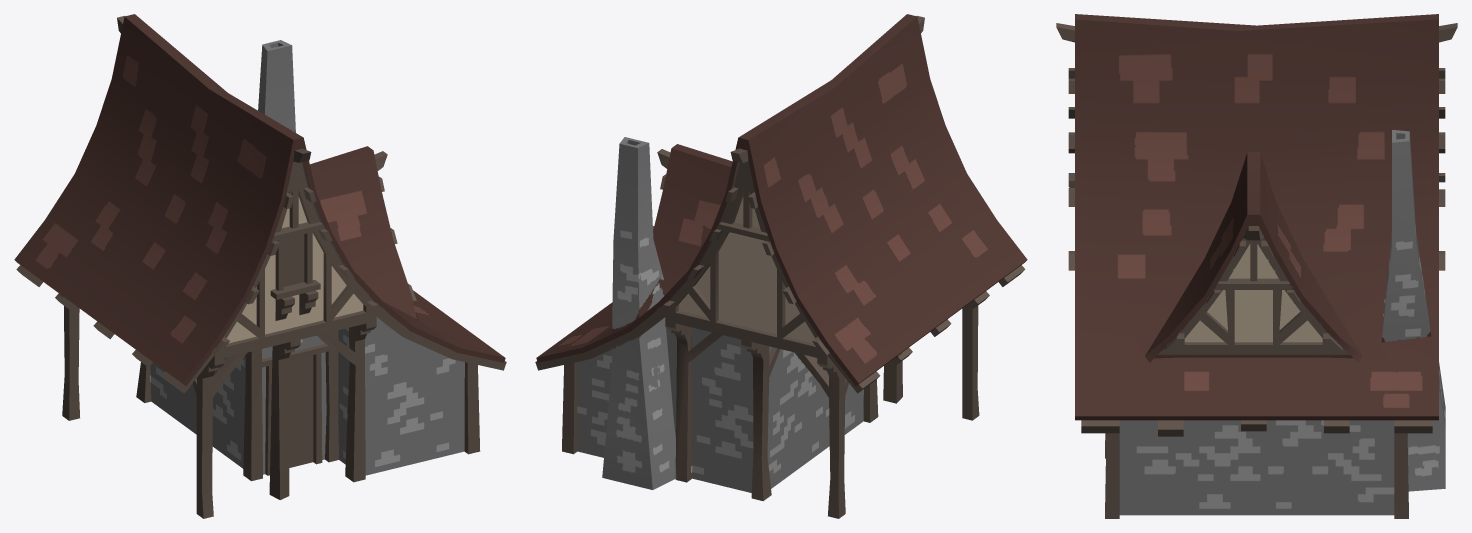
Rendered from Mechanic.fbx.
The picture shows the model from 3 angles, left to right: view 1: azimuth 30°, elevation 25°; view 2: azimuth 150°, elevation 25°; view 3: azimuth 270°, elevation 25°; orthographic projection. The views are drawn at different scales.
Visible parts, largest first — view 1: House; view 2: House; view 3: House.
Boxes of the visible parts, box(x1,y1,x2,y2) form: House: box(14, 14, 506, 518); House: box(535, 14, 1027, 518); House: box(1056, 14, 1457, 518).
Bounding box in the file's own units: 548 × 587 × 534.
